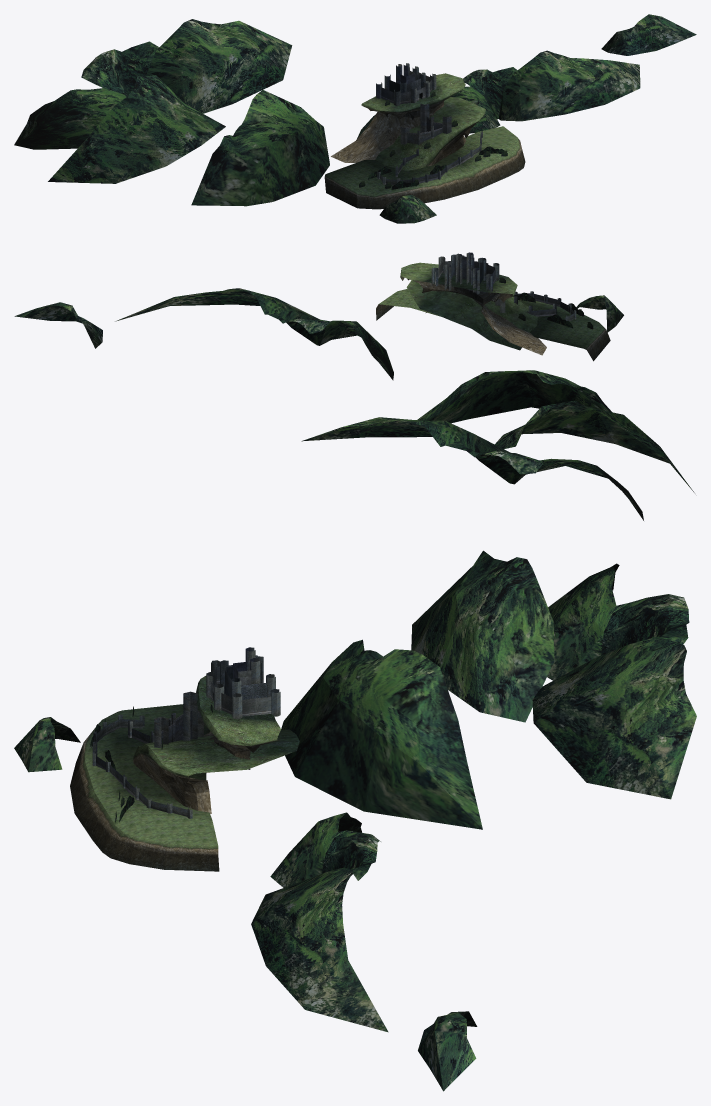
File: CastleMountains1.glb
3 renders of one model, top to bottom at view 1: azimuth 30°, elevation 25°; view 2: azimuth 150°, elevation 25°; view 3: azimuth 270°, elevation 25°, orthographic. The views are drawn at different scales.
Parts seen in each view (by area): view 1: stg102_o31_Mesh_0000, stg102_o31_Mesh_0005, stg102_o31_Mesh_0007, stg102_o31_Mesh_0006, stg102_o31_Mesh_0004, stg102_o31_Mesh_0003, stg102_o31_Mesh_0002, stg102_o31_Mesh_0001, stg101_p31_Mesh_0000; view 2: stg102_o31_Mesh_0000, stg102_o31_Mesh_0006, stg102_o31_Mesh_0007, stg102_o31_Mesh_0005, stg102_o31_Mesh_0004, stg102_o31_Mesh_0003; view 3: stg102_o31_Mesh_0000, stg102_o31_Mesh_0005, stg102_o31_Mesh_0007, stg102_o31_Mesh_0006, stg102_o31_Mesh_0003, stg102_o31_Mesh_0004, stg102_o31_Mesh_0001, stg102_o31_Mesh_0002.
Part boxes in pixels (x1,y1,x2,y2): stg102_o31_Mesh_0000: [14, 14, 696, 223]; stg102_o31_Mesh_0005: [326, 126, 518, 195]; stg102_o31_Mesh_0007: [376, 63, 482, 184]; stg102_o31_Mesh_0006: [357, 73, 481, 170]; stg102_o31_Mesh_0004: [331, 101, 471, 163]; stg102_o31_Mesh_0003: [324, 149, 525, 209]; stg102_o31_Mesh_0002: [361, 82, 485, 170]; stg102_o31_Mesh_0001: [324, 137, 521, 198]; stg101_p31_Mesh_0000: [359, 92, 507, 188]; stg102_o31_Mesh_0000: [14, 288, 694, 520]; stg102_o31_Mesh_0006: [401, 262, 537, 350]; stg102_o31_Mesh_0007: [431, 252, 576, 320]; stg102_o31_Mesh_0005: [379, 289, 602, 348]; stg102_o31_Mesh_0004: [402, 277, 546, 355]; stg102_o31_Mesh_0003: [376, 304, 610, 361]; stg102_o31_Mesh_0000: [14, 550, 696, 1091]; stg102_o31_Mesh_0005: [85, 704, 218, 845]; stg102_o31_Mesh_0007: [92, 647, 280, 818]; stg102_o31_Mesh_0006: [138, 675, 299, 773]; stg102_o31_Mesh_0003: [70, 743, 219, 871]; stg102_o31_Mesh_0004: [136, 731, 277, 813]; stg102_o31_Mesh_0001: [79, 711, 218, 855]; stg102_o31_Mesh_0002: [133, 679, 279, 778].
Bounding box in the file's own units: 2883 × 508 × 1665.
9 materials, 9 textured.
